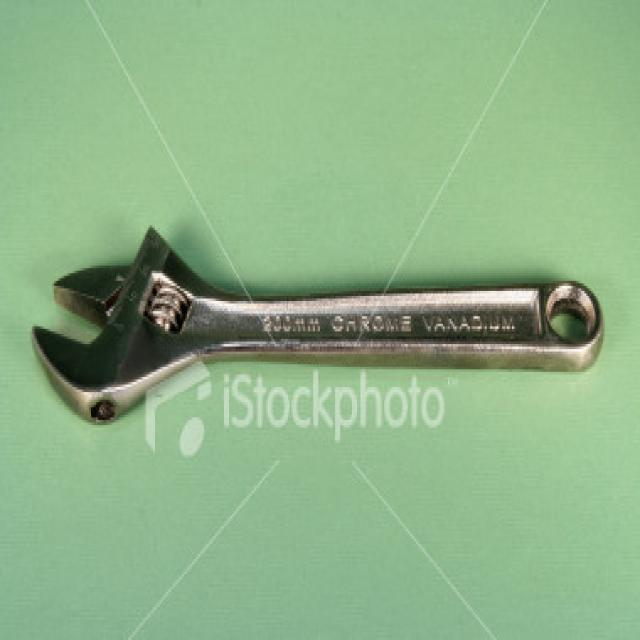wrench: (25, 220, 608, 434)
